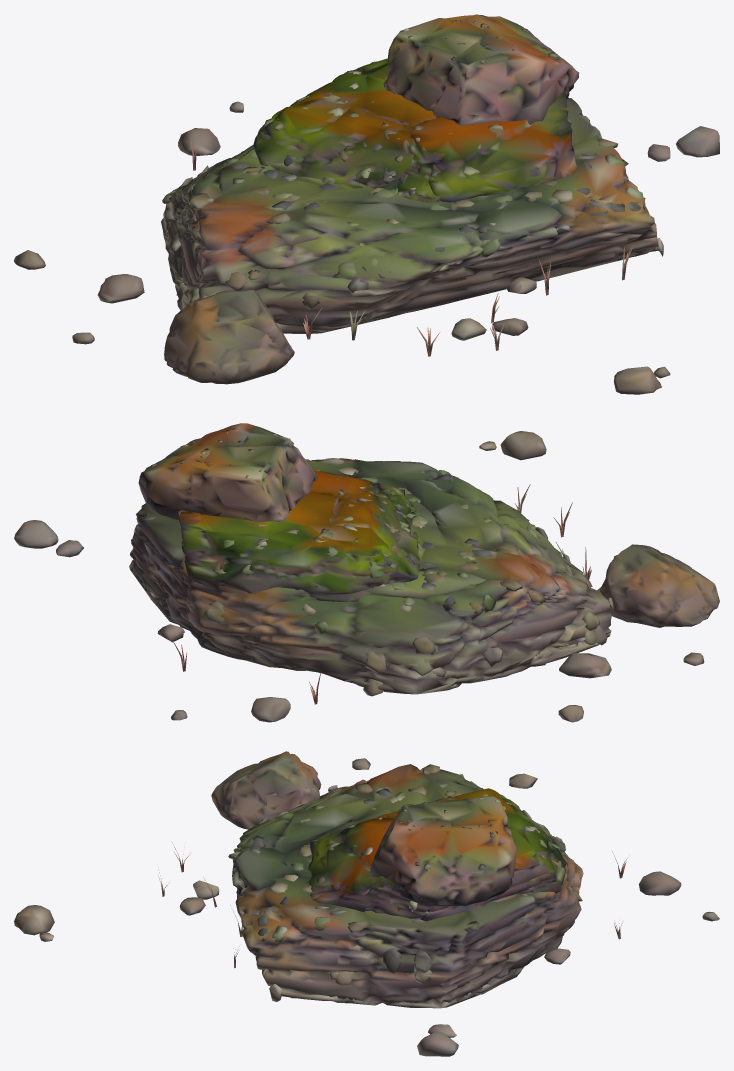
The model's file is tas_kaya.glb.
3 renders of one model, top to bottom at view 1: azimuth 30°, elevation 25°; view 2: azimuth 150°, elevation 25°; view 3: azimuth 270°, elevation 25°, orthographic. The views are drawn at different scales.
Visible parts, largest first — view 1: tas_kaya_LOD0; view 2: tas_kaya_LOD0; view 3: tas_kaya_LOD0.
Boxes of the visible parts, <box> form: tas_kaya_LOD0: <box>14,14,719,394</box>; tas_kaya_LOD0: <box>14,423,719,722</box>; tas_kaya_LOD0: <box>14,751,719,1056</box>.
Size of what is drawn, in the model's own units: 8.19 by 2.04 by 8.3.
